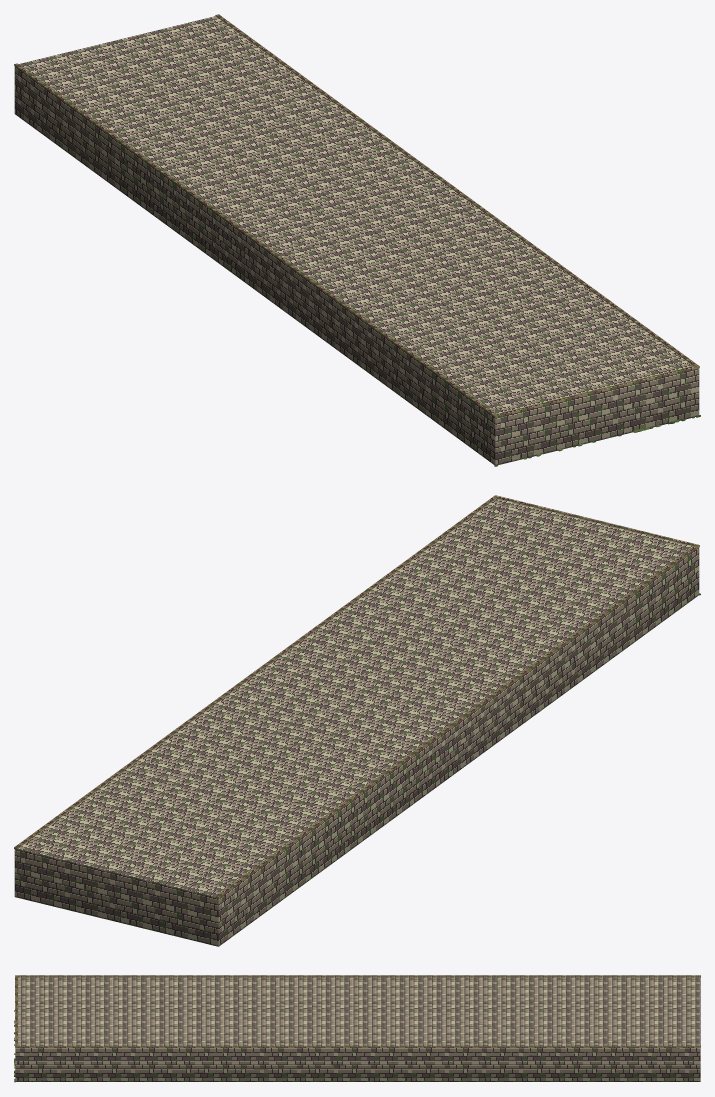
Rendered from scene_wall_w.glb.
3 views of the same model, one above another, from view 1: azimuth 30°, elevation 25°; view 2: azimuth 150°, elevation 25°; view 3: azimuth 270°, elevation 25° (orthographic). The views are drawn at different scales.
Visible parts, largest first — view 1: scene_wall_w; view 2: scene_wall_w; view 3: scene_wall_w.
Part boxes in pixels (x1,y1,x2,y2): scene_wall_w: (14,14,700,466); scene_wall_w: (14,495,700,946); scene_wall_w: (14,975,700,1082).
Bounding box in the file's own units: 22.08 × 5.17 × 89.24.
Materials: 2 (1 with a texture image).
